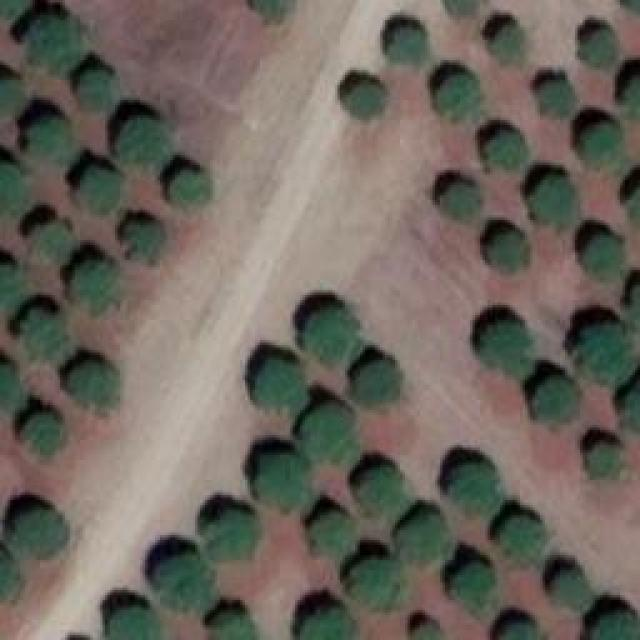Tree: (158, 553, 218, 613), (580, 325, 633, 383), (25, 18, 83, 68), (305, 405, 358, 458), (258, 455, 313, 505), (255, 360, 308, 410), (480, 323, 530, 373), (203, 513, 258, 558), (350, 560, 400, 608), (530, 177, 580, 225), (13, 510, 66, 555), (68, 365, 121, 410), (313, 308, 356, 363), (453, 565, 496, 618), (118, 120, 171, 163), (450, 468, 500, 513), (398, 518, 448, 563), (313, 512, 358, 560), (70, 260, 115, 308), (23, 310, 66, 360), (28, 118, 71, 163), (435, 75, 480, 118), (110, 605, 163, 640), (360, 468, 400, 513), (30, 223, 75, 263), (535, 378, 575, 421), (18, 415, 63, 453), (303, 610, 358, 640), (438, 182, 481, 220), (582, 125, 620, 168), (358, 360, 398, 400), (583, 235, 623, 275), (503, 518, 538, 563), (80, 170, 118, 210), (80, 70, 118, 110), (125, 222, 163, 260), (390, 25, 428, 63), (490, 232, 528, 270), (0, 162, 30, 210), (587, 612, 640, 639), (553, 573, 593, 608), (170, 170, 210, 205), (485, 133, 525, 168), (583, 28, 616, 68), (210, 615, 260, 640), (348, 83, 383, 118), (620, 380, 640, 438), (588, 443, 621, 478), (538, 83, 573, 116), (490, 25, 520, 63), (0, 265, 25, 310), (0, 365, 25, 410), (0, 550, 20, 600), (0, 72, 22, 115), (498, 622, 543, 640), (625, 73, 640, 126), (418, 622, 438, 640)
